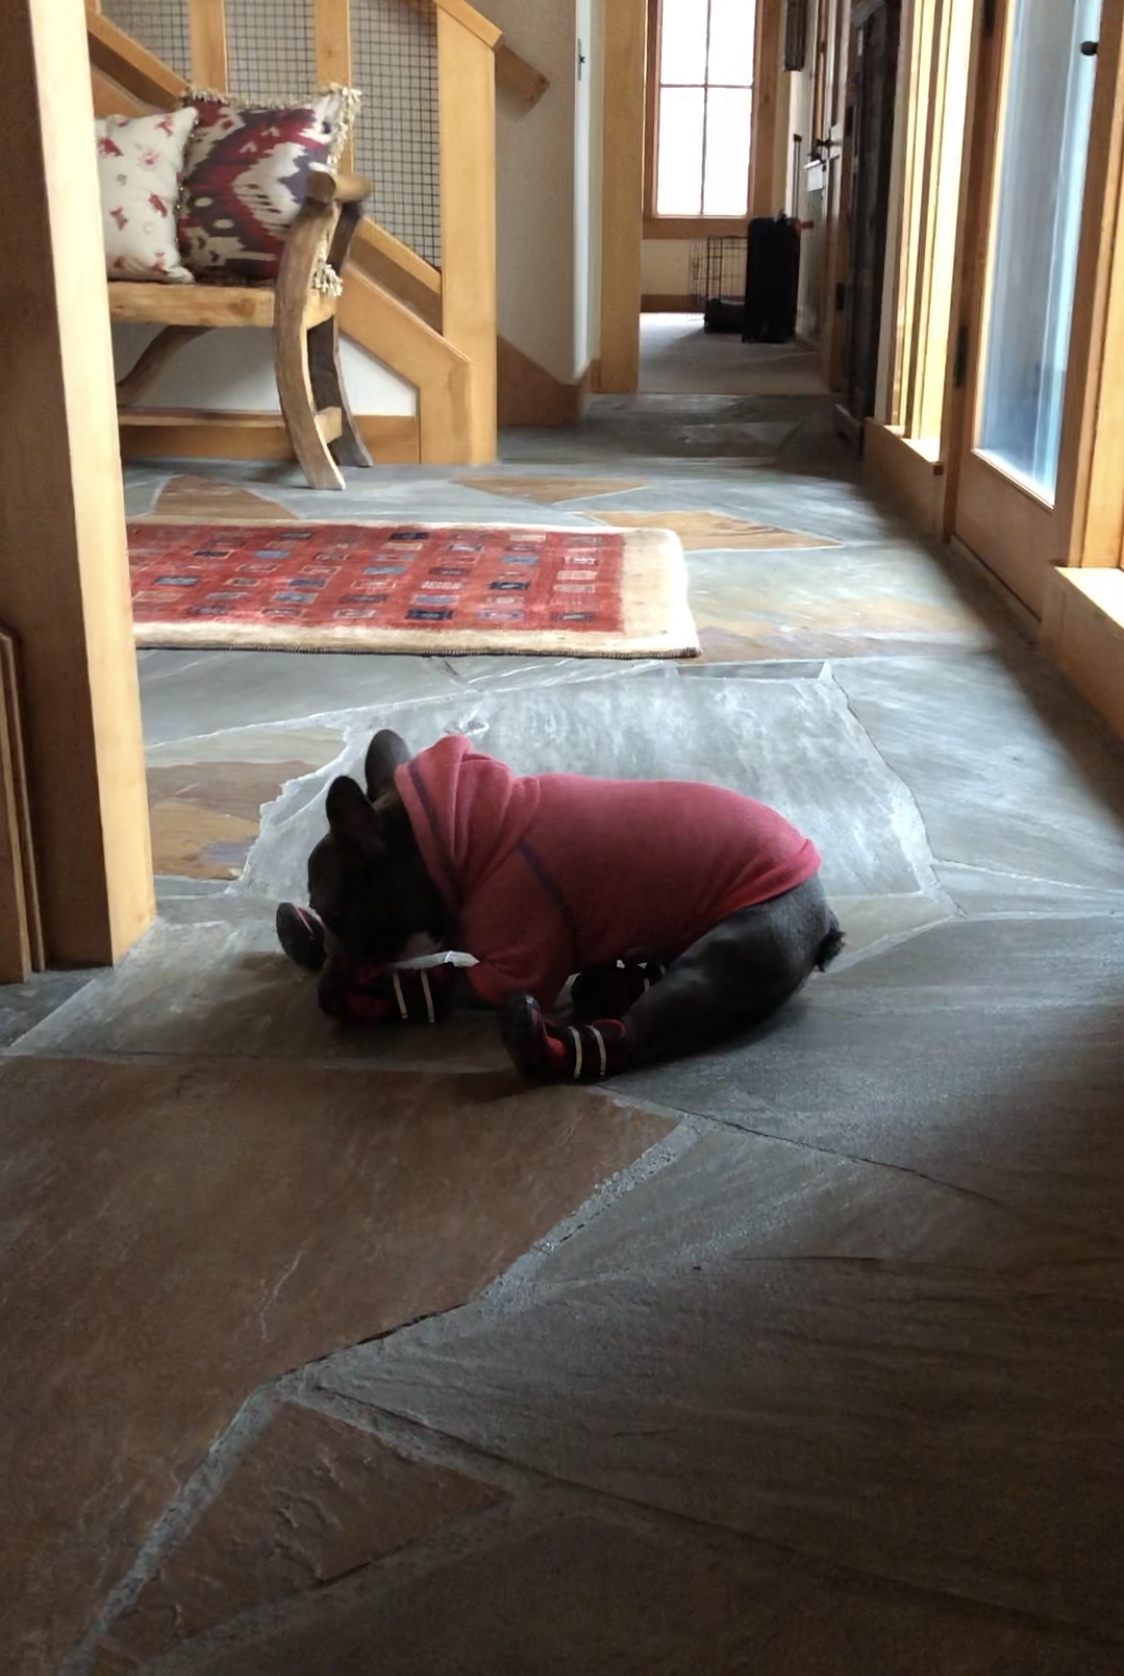lucy: (268, 721, 863, 1110)
